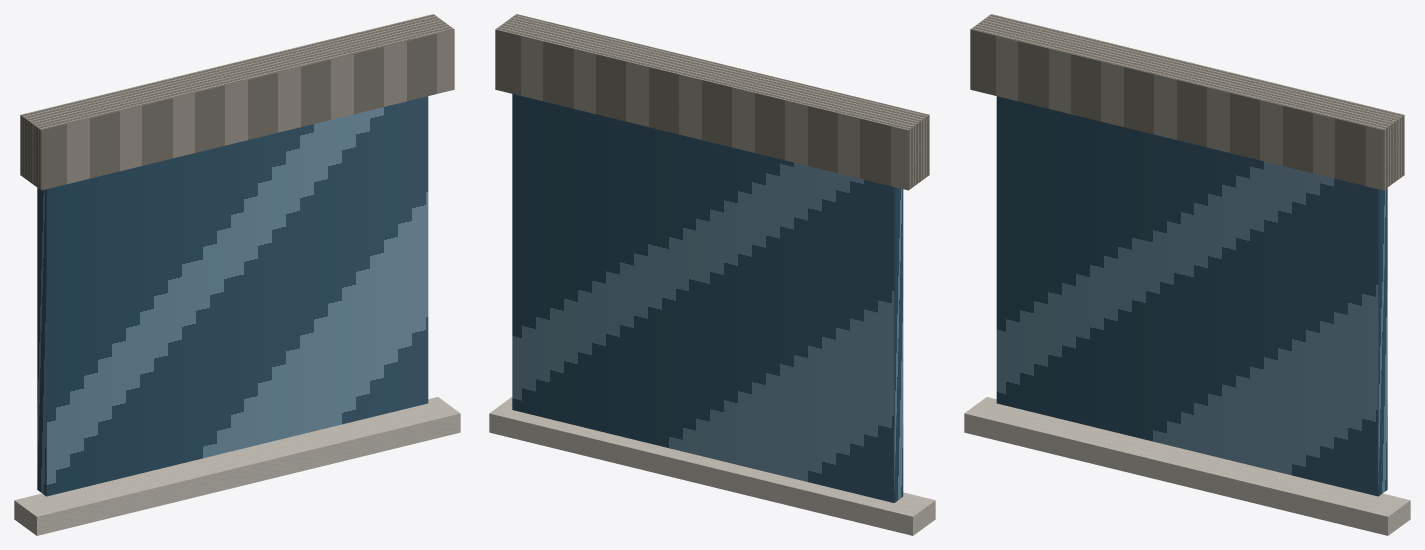
Rendered from window-ensanche-lod1.glb.
3 views of the same model, side by side, from view 1: azimuth 30°, elevation 25°; view 2: azimuth 150°, elevation 25°; view 3: azimuth 330°, elevation 25° (orthographic).
Parts seen in each view (by area): view 1: window-ensanche-lod1; view 2: window-ensanche-lod1; view 3: window-ensanche-lod1.
Part boxes in pixels (x1=…): window-ensanche-lod1: x1=14, y1=14, x2=460, y2=535; window-ensanche-lod1: x1=489, y1=14, x2=935, y2=535; window-ensanche-lod1: x1=964, y1=14, x2=1410, y2=535.
Bounding box in the file's own units: 1.62 × 1.48 × 0.15.
Materials: 1 (1 with a texture image).
